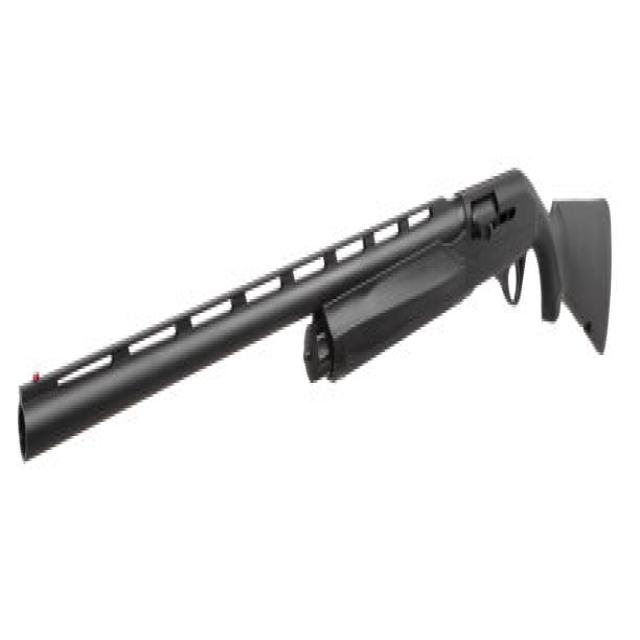rifle: (14, 157, 616, 485)
